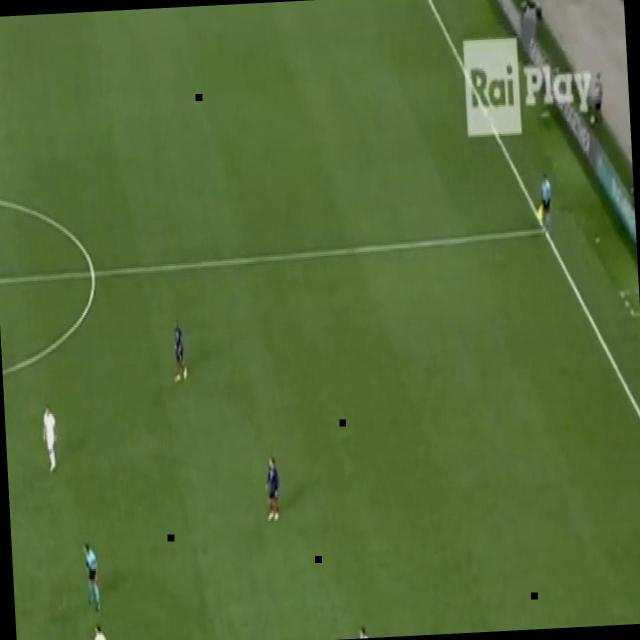player-white: (38, 404, 64, 478), (80, 536, 102, 621), (262, 452, 284, 530), (168, 315, 190, 389), (537, 167, 555, 243), (80, 620, 112, 640), (353, 620, 376, 638)
